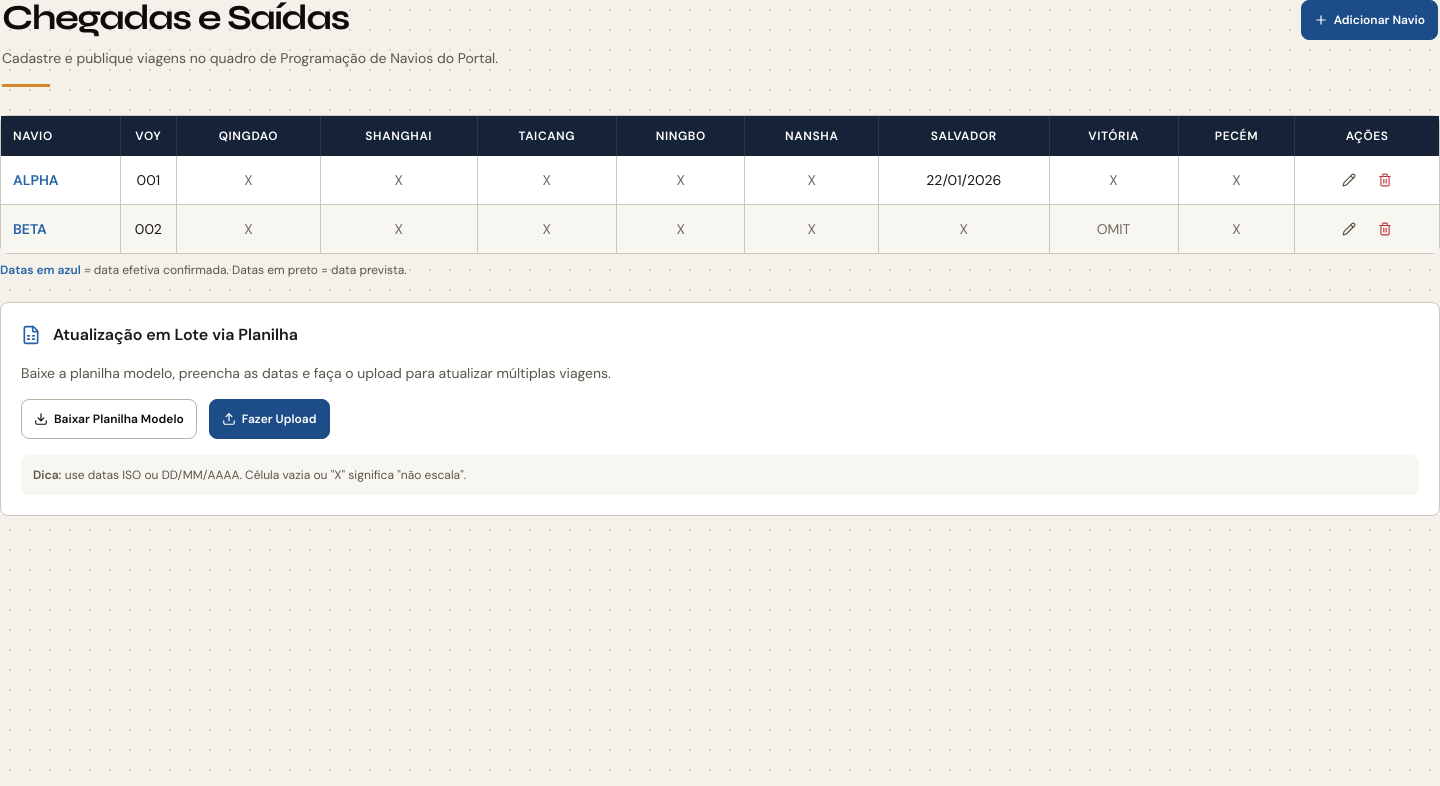
Test: ChegadasSaidas user behaviours › ao marcar Nao escala explicitamente, limpa a data e desabilita o campo
Click the button titled "Editar" in the row of "ALPHA" at (1349, 180), box [1333,164,1365,196]
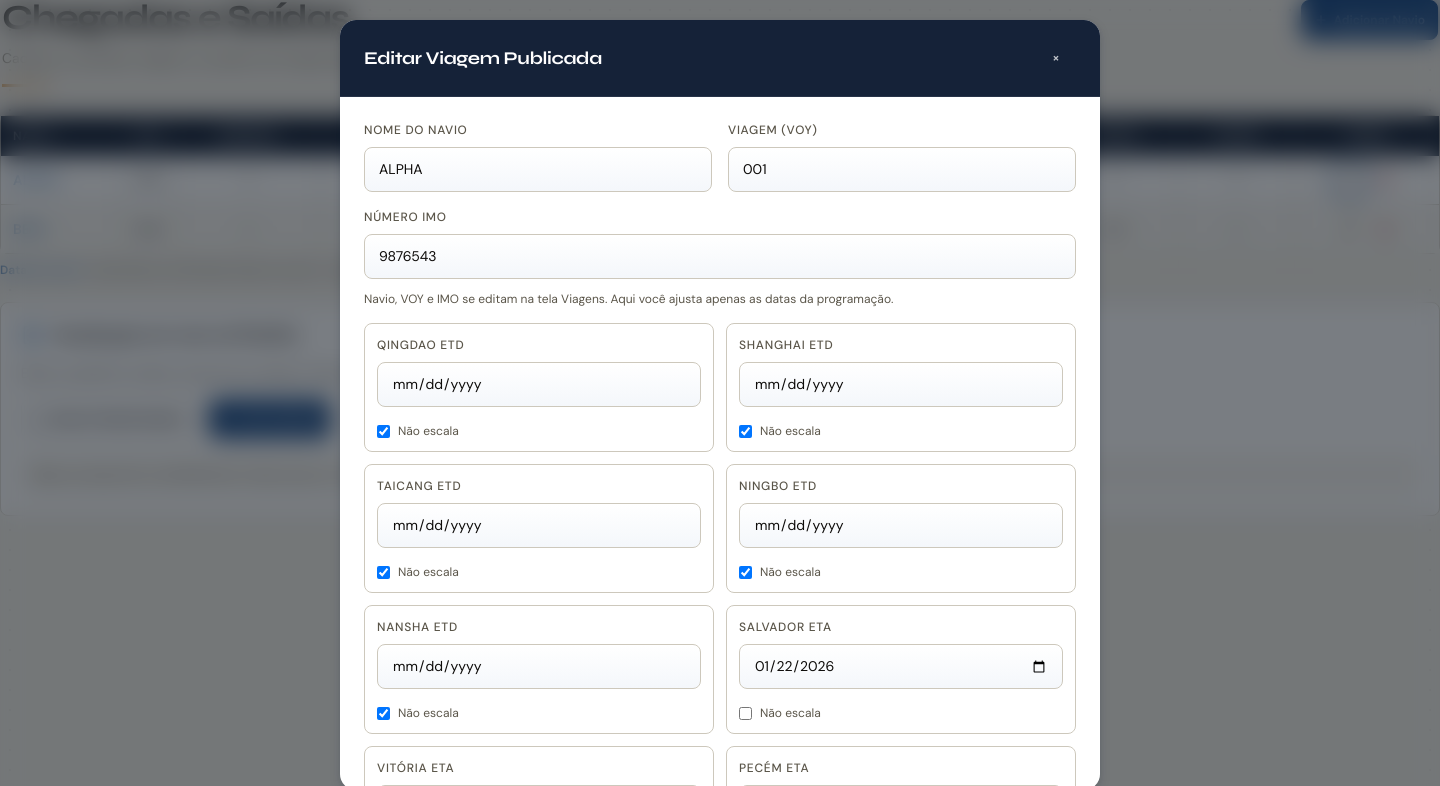
Now the 6th checkbox labelled "Não escala" is not checked
Now the date field labelled "SALVADOR ETA" is enabled, box [739,644,1063,689]
Click the 6th checkbox labelled "Não escala" at (746, 713), box [739,706,752,720]
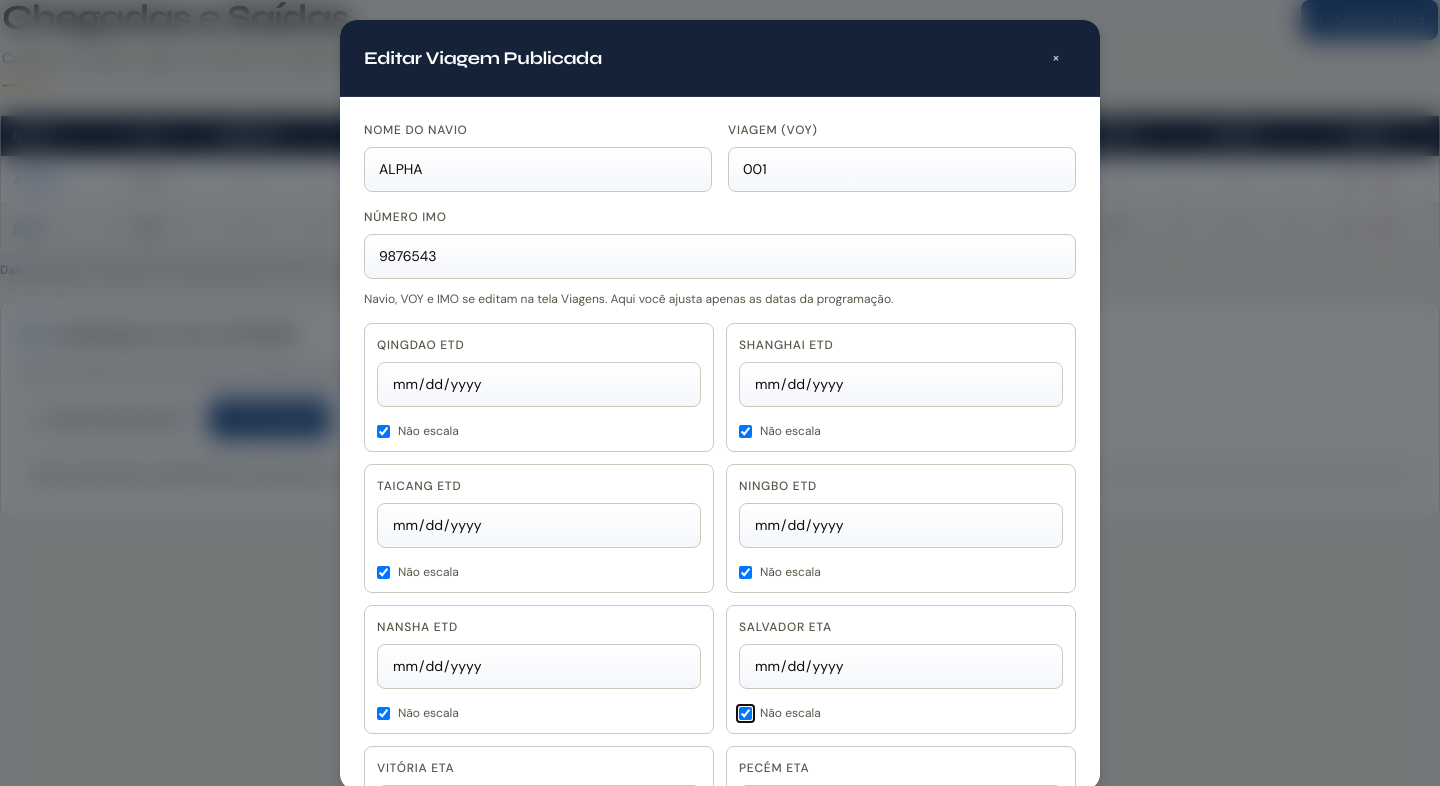
Now the 6th checkbox labelled "Não escala" is checked, box [739,706,752,720]
Now the date field labelled "SALVADOR ETA" is disabled, box [739,644,1063,689]
Now the date field labelled "SALVADOR ETA" is empty, box [739,644,1063,689]
